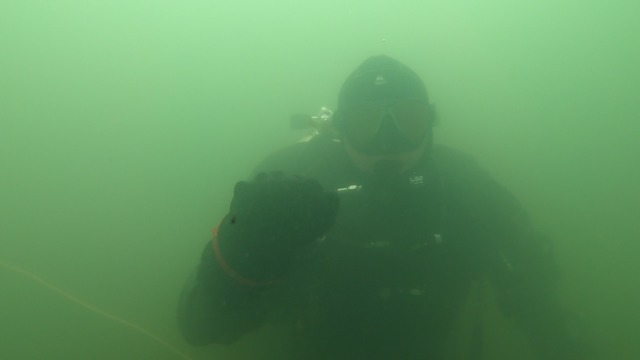Diver: (131, 20, 608, 351)
Hand: (181, 158, 359, 304)
Head: (316, 51, 447, 197)
